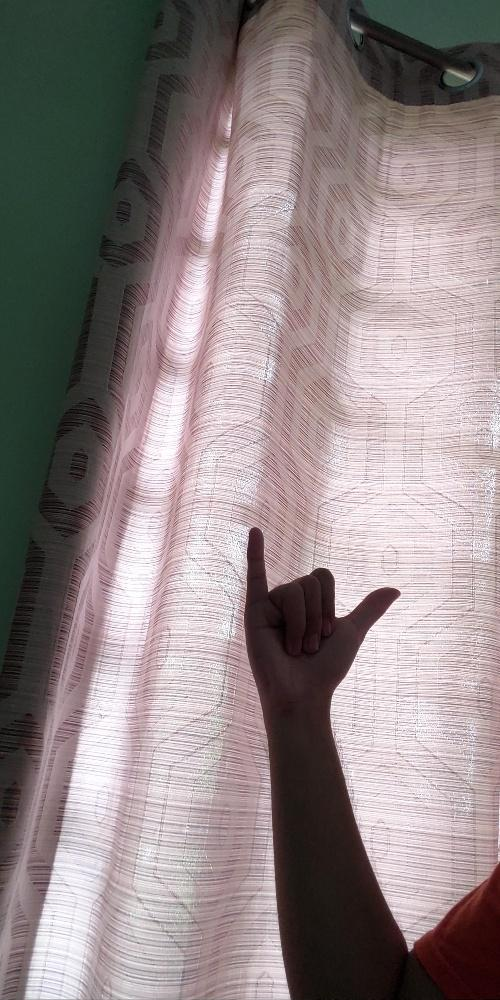y: (244, 523, 401, 707)
